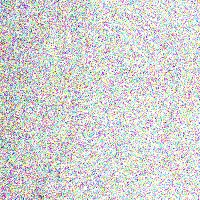inclusion: (32, 144, 68, 198)
